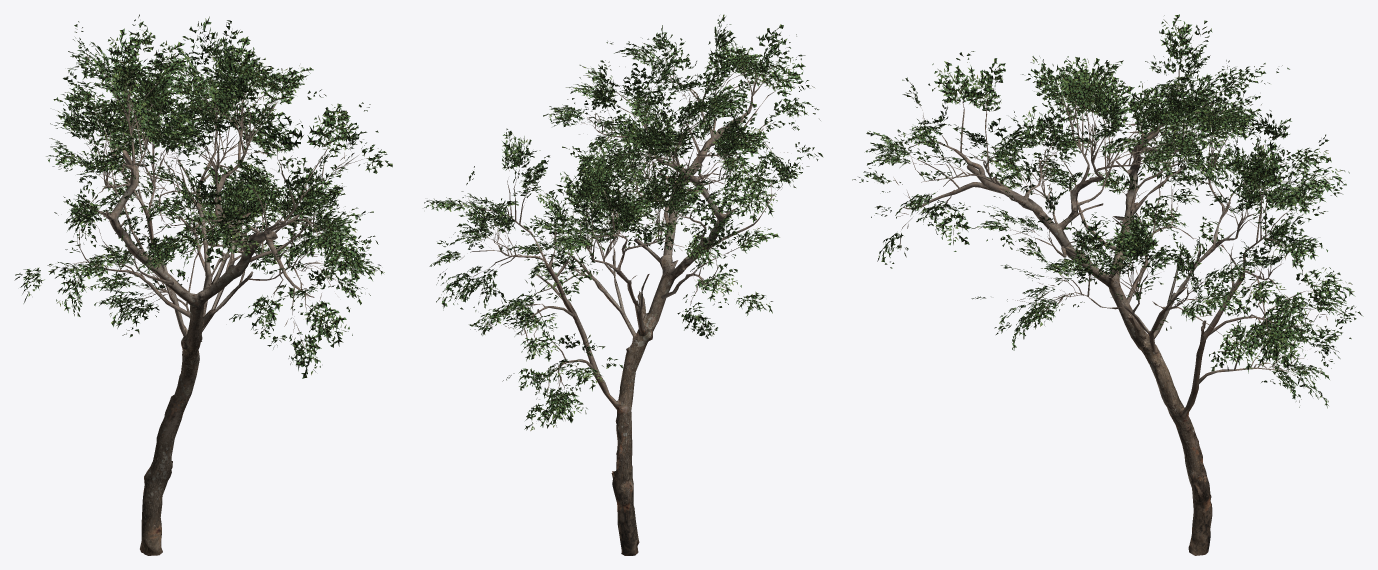
The model's file is mature-tree-lod2.gltf.
3 views of the same model, side by side, from view 1: azimuth 30°, elevation 25°; view 2: azimuth 150°, elevation 25°; view 3: azimuth 270°, elevation 25° (orthographic). The views are drawn at different scales.
Visible parts, largest first — view 1: tree_small_02_LOD0; view 2: tree_small_02_LOD0; view 3: tree_small_02_LOD0.
Part boxes in pixels (x1,y1,x2,y2): tree_small_02_LOD0: (14, 14, 392, 555); tree_small_02_LOD0: (424, 14, 823, 555); tree_small_02_LOD0: (852, 14, 1363, 555).
Size of the model in its own units: 2.9 by 4.55 by 4.23.
Materials: 3 (3 with a texture image).
